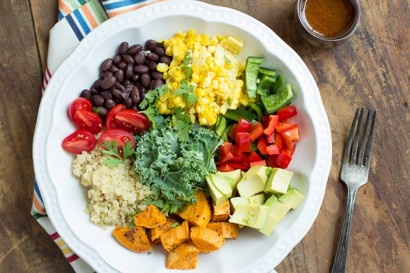background: (39, 12, 195, 115), (33, 0, 227, 16)
